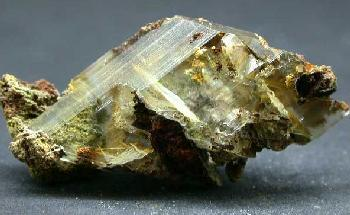gypsum: (32, 15, 221, 132)
